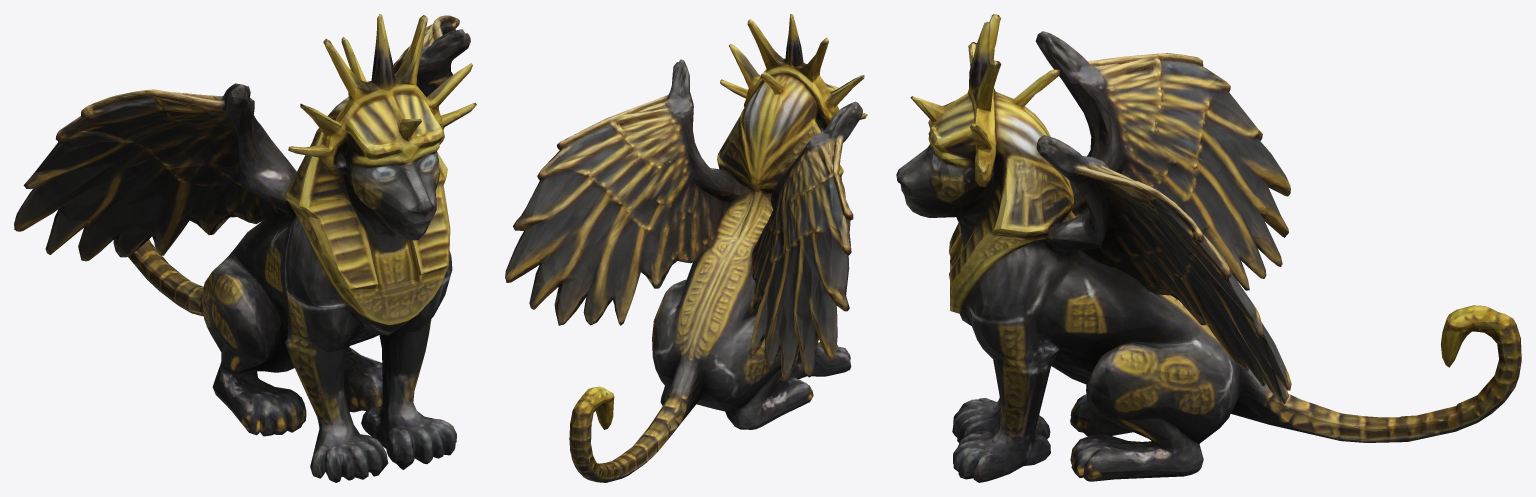
Rendered from vespera__nemesisSphinx.glb.
3 renders of one model, left to right at view 1: azimuth 30°, elevation 25°; view 2: azimuth 150°, elevation 25°; view 3: azimuth 270°, elevation 25°, orthographic. The views are drawn at different scales.
Visible parts, largest first — view 1: world; view 2: world; view 3: world.
Part boxes in pixels (x1,y1,x2,y2): world: [14, 14, 476, 482]; world: [505, 14, 867, 482]; world: [896, 14, 1521, 482].
Bounding box in the file's own units: 0.7695 × 0.7706 × 0.9996.
1 material, 1 textured.
